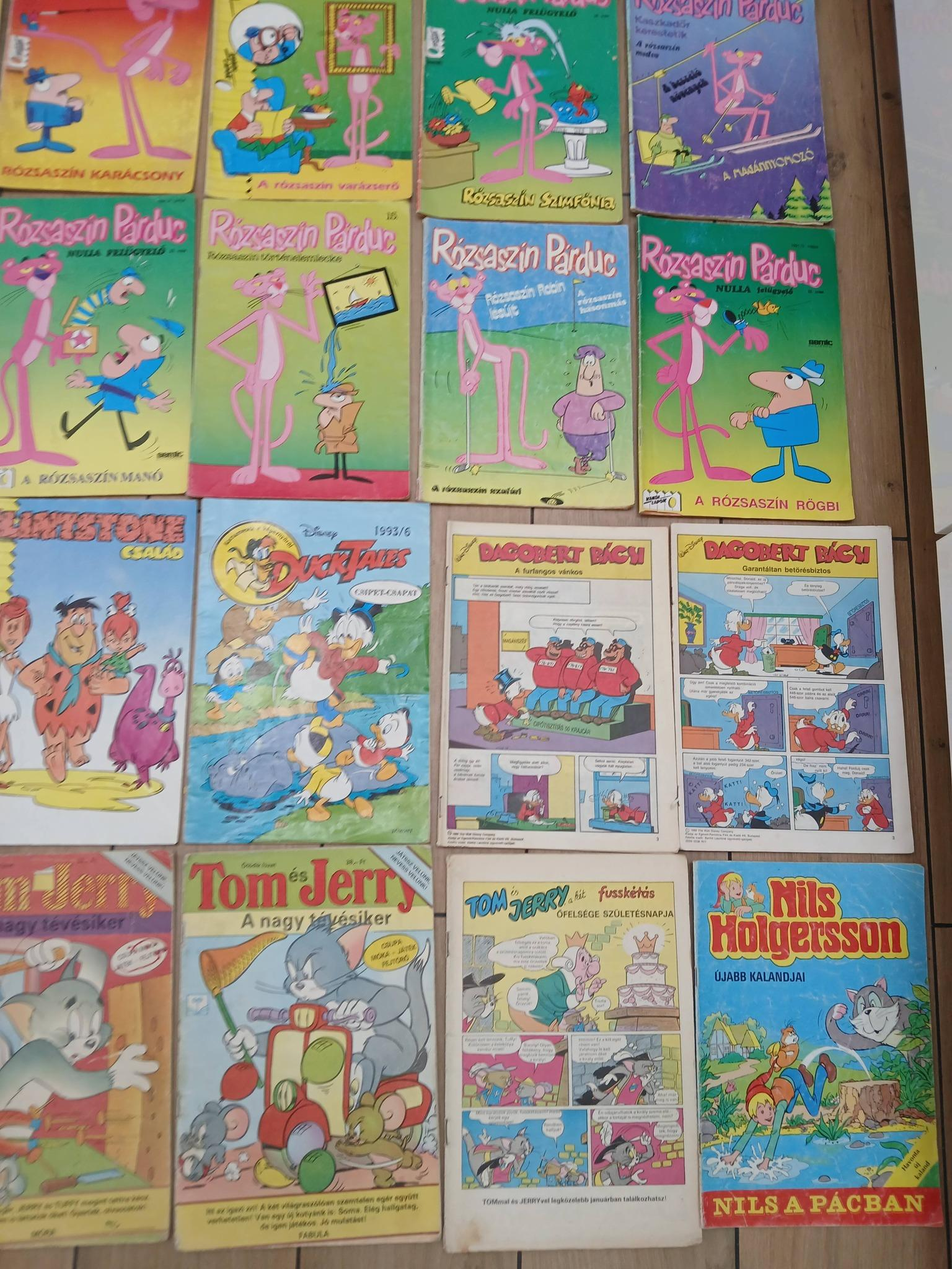comic: (175, 848, 440, 1250), (439, 850, 700, 1252), (689, 851, 942, 1234), (668, 515, 913, 861), (185, 500, 430, 845), (438, 521, 684, 852), (0, 850, 172, 1247), (0, 498, 195, 845), (189, 200, 413, 500), (637, 215, 853, 521), (418, 219, 640, 508), (0, 195, 194, 496), (627, 0, 832, 227), (418, 0, 625, 223), (0, 0, 212, 205), (206, 0, 413, 201)
